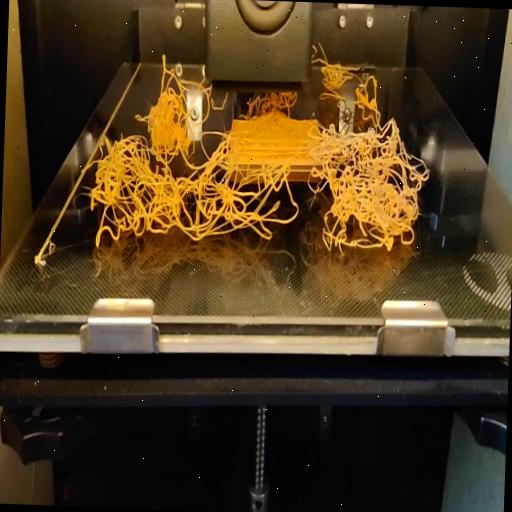spaghetti: (86, 80, 434, 258), (310, 40, 380, 90), (156, 53, 176, 86)
